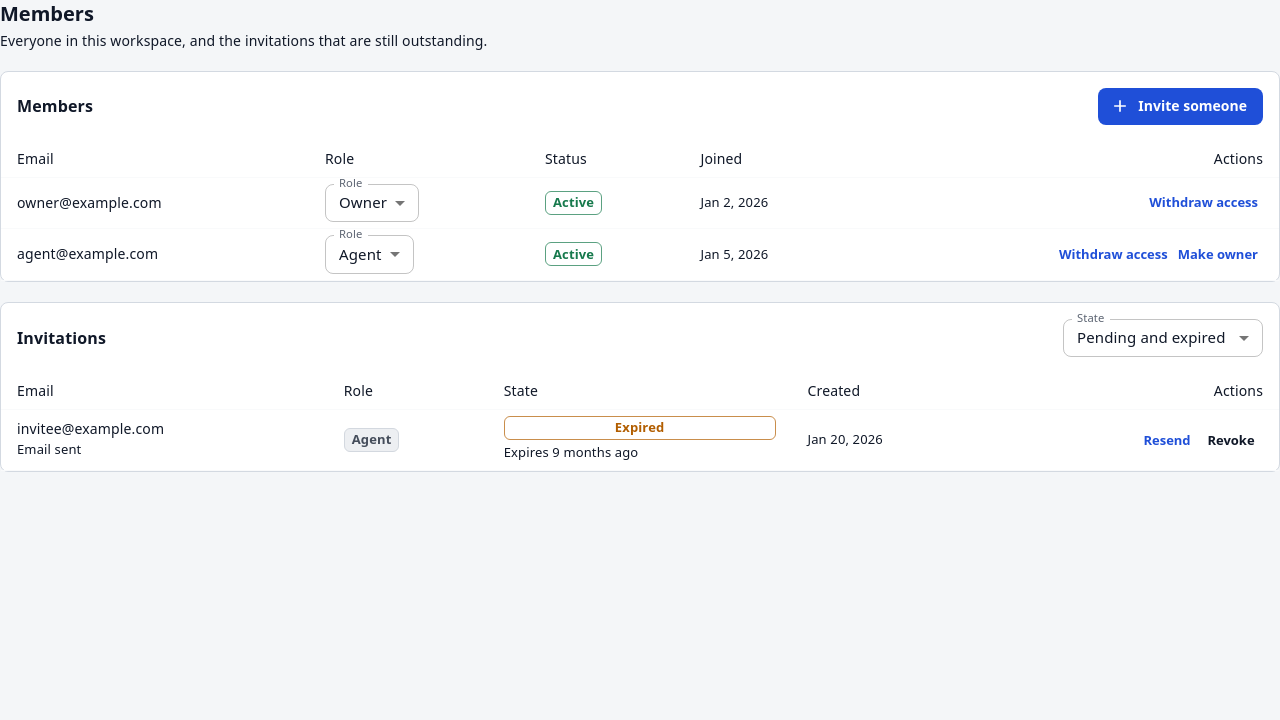
MembersPage › shows an expired invitation and reveals the rotated link exactly once on resend
Expected: the text "invitee@example.com" is shown, [17, 419, 164, 438]
Expected: the text "Expired" is shown, [615, 418, 664, 436]
Click the button "Resend".
click(1167, 440)  # box [1135, 425, 1199, 455]
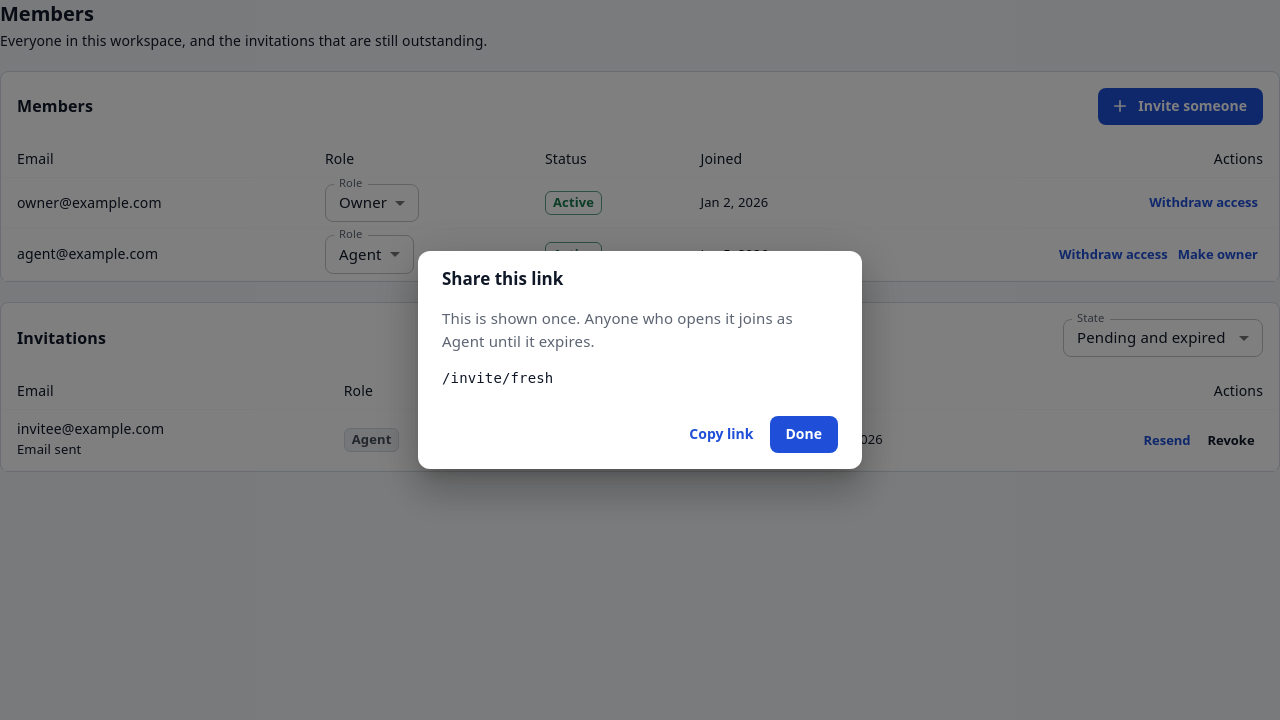
Expected: the text "/invite/fresh" is shown, [442, 370, 553, 386]
Click the button "Done".
click(804, 434)  # box [770, 416, 838, 453]
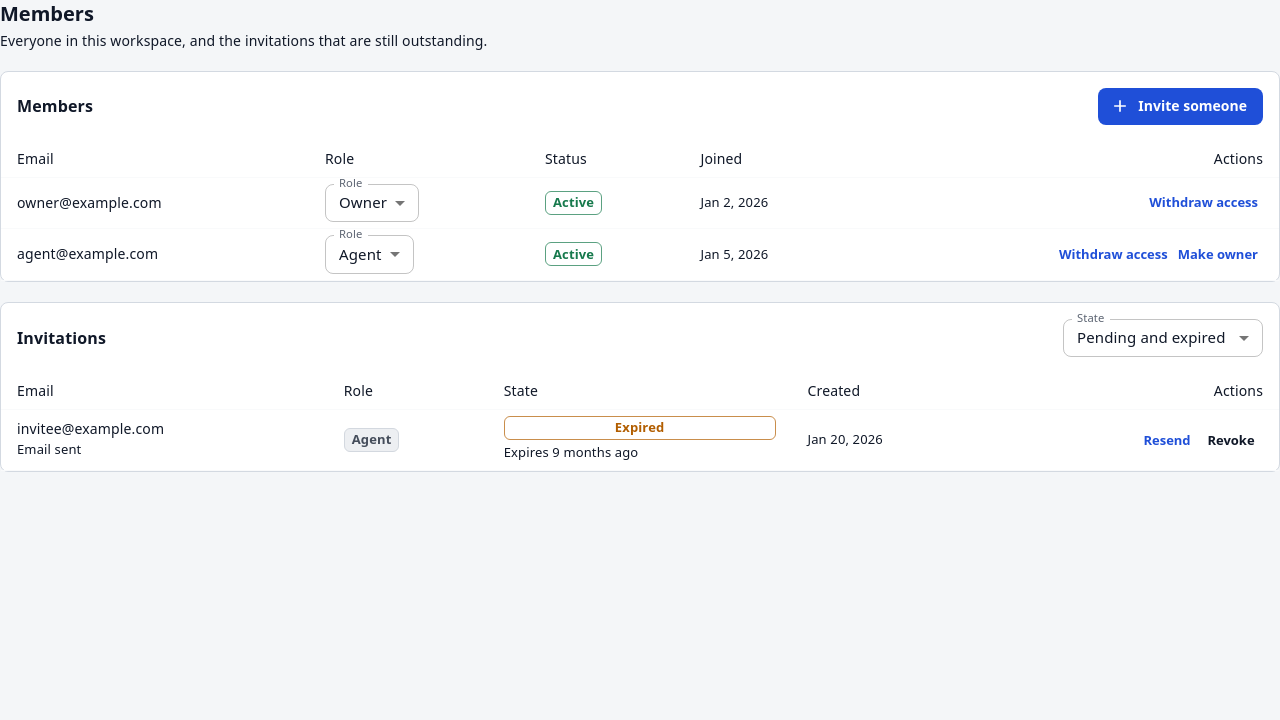
Expected: the text "/invite/fresh" is gone
